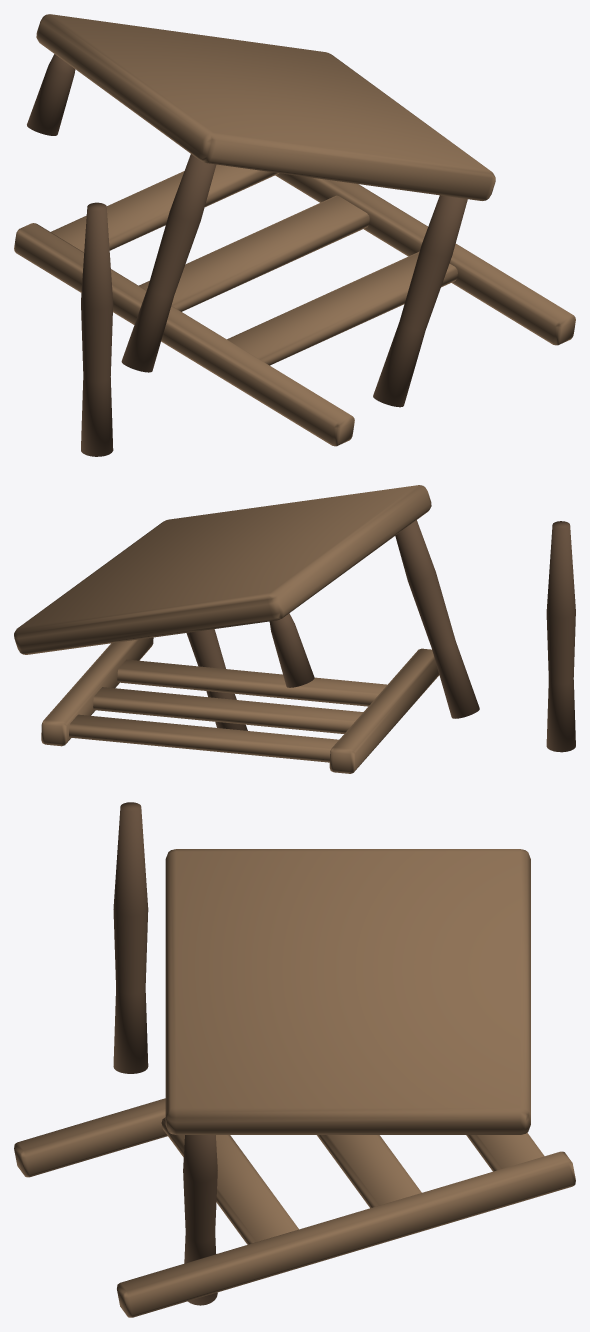
The model's file is broken_chair.glb.
3 views of the same model, one above another, from view 1: azimuth 30°, elevation 25°; view 2: azimuth 150°, elevation 25°; view 3: azimuth 270°, elevation 25° (orthographic). The views are drawn at different scales.
Parts seen in each view (by area): view 1: broken_chair_mesh; view 2: broken_chair_mesh; view 3: broken_chair_mesh.
Boxes of the visible parts, x1,y1,x2,y2 form: broken_chair_mesh: [14, 14, 575, 456]; broken_chair_mesh: [14, 485, 575, 773]; broken_chair_mesh: [14, 802, 575, 1317].
Bounding box in the file's own units: 0.6966 × 0.4445 × 0.6463.
